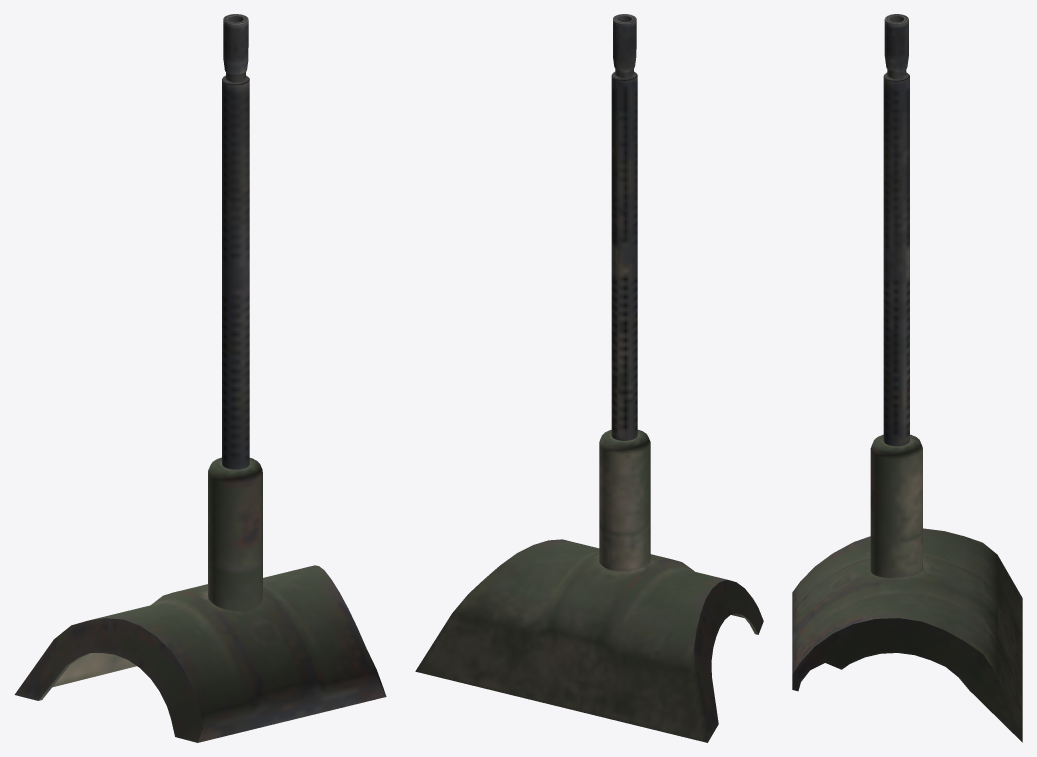
Rendered from Gun_05.glb.
3 renders of one model, left to right at view 1: azimuth 30°, elevation 25°; view 2: azimuth 150°, elevation 25°; view 3: azimuth 270°, elevation 25°, orthographic. The views are drawn at different scales.
Parts seen in each view (by area): view 1: set_0_group_0; view 2: set_0_group_0; view 3: set_0_group_0.
Boxes of the visible parts, x1,y1,x2,y2 form: set_0_group_0: (14,14,386,742); set_0_group_0: (415,14,763,742); set_0_group_0: (792,14,1022,742).
Bounding box in the file's own units: 0.6457 × 1.36 × 0.4353.
Materials: 1 (1 with a texture image).
